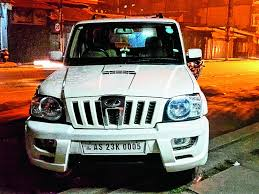Number plates: (77, 138, 150, 155)
